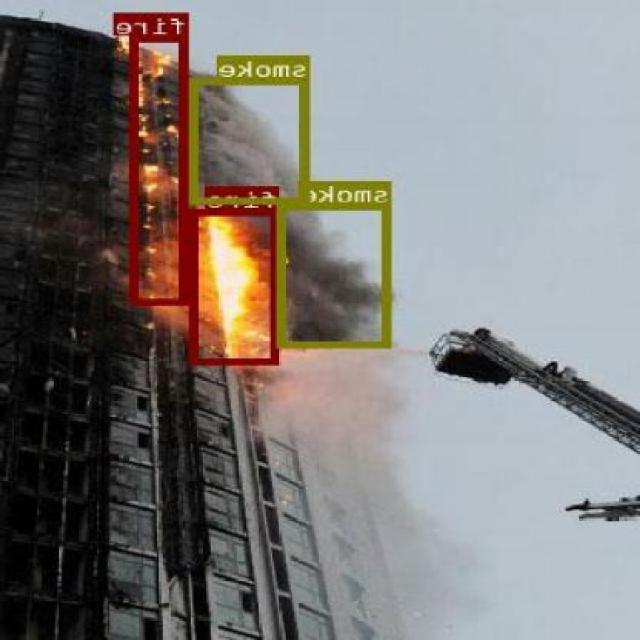Fire: (132, 34, 188, 304), (193, 209, 282, 363)
Smoke: (278, 202, 394, 347), (192, 78, 310, 202), (266, 356, 414, 443)
